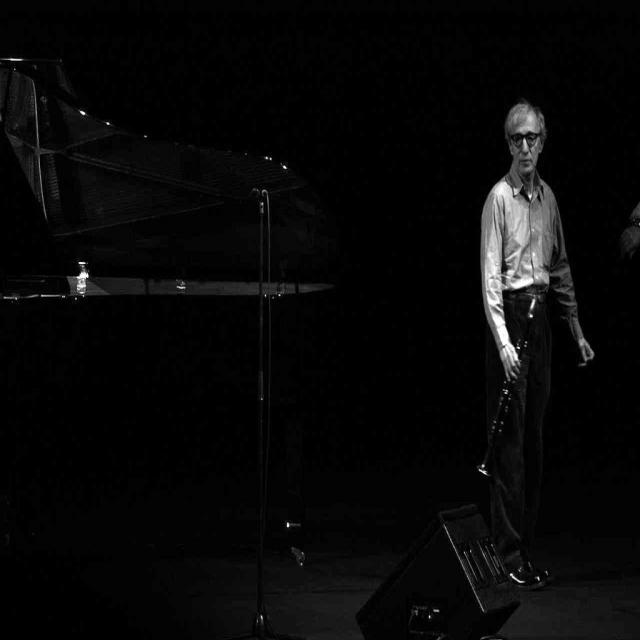clarinet: (472, 283, 543, 483)
